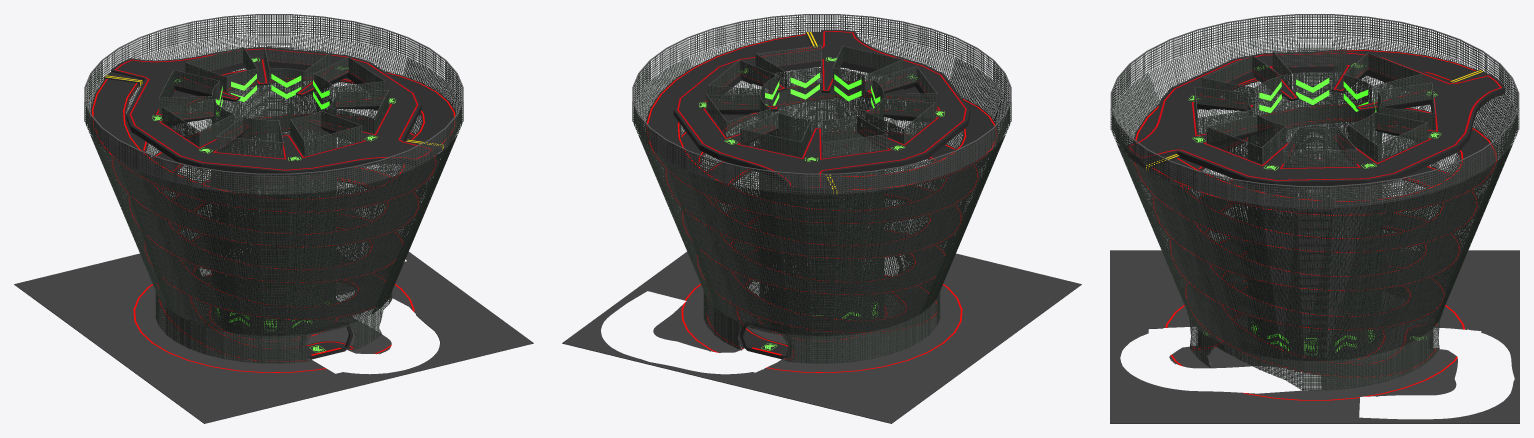
The model's file is floor-04.gltf.
3 views of the same model, side by side, from view 1: azimuth 30°, elevation 25°; view 2: azimuth 150°, elevation 25°; view 3: azimuth 270°, elevation 25° (orthographic). The views are drawn at different scales.
Parts seen in each view (by area): view 1: Cone, bottom-platform, top-platform, big-tube, spiral.stairs.001, top-platform-barriers, spiral.stairs.002, widehex.beam.0.5.000; view 2: Cone, bottom-platform, top-platform, spiral.stairs.002, big-tube, spiral.stairs.001, top-platform-barriers, widehex.beam.0.5.000; view 3: Cone, bottom-platform, top-platform, big-tube, spiral.stairs.002, top-platform-barriers, spiral.stairs.001, arrow-1.
Boxes of the visible parts, bbox=[...] form: Cone: bbox=[84, 14, 463, 363]; bottom-platform: bbox=[14, 210, 533, 423]; top-platform: bbox=[103, 47, 443, 177]; big-tube: bbox=[212, 68, 335, 339]; spiral.stairs.001: bbox=[90, 78, 437, 362]; top-platform-barriers: bbox=[158, 45, 389, 157]; spiral.stairs.002: bbox=[110, 67, 457, 320]; widehex.beam.0.5.000: bbox=[299, 321, 352, 359]; Cone: bbox=[632, 14, 1011, 363]; bottom-platform: bbox=[562, 222, 1081, 423]; top-platform: bbox=[673, 30, 970, 193]; spiral.stairs.002: bbox=[645, 33, 979, 361]; big-tube: bbox=[759, 67, 884, 339]; spiral.stairs.001: bbox=[664, 80, 998, 333]; top-platform-barriers: bbox=[706, 45, 937, 158]; widehex.beam.0.5.000: bbox=[740, 321, 793, 359]; Cone: bbox=[1110, 14, 1519, 390]; bottom-platform: bbox=[1110, 250, 1519, 423]; top-platform: bbox=[1125, 51, 1504, 187]; big-tube: bbox=[1248, 72, 1381, 361]; spiral.stairs.002: bbox=[1151, 103, 1498, 377]; top-platform-barriers: bbox=[1194, 49, 1435, 167]; spiral.stairs.001: bbox=[1132, 49, 1478, 350]; arrow-1: bbox=[1296, 78, 1329, 104].
Size of what is drawn, in the model's own units: 64 by 41.16 by 64.
Materials: 9 (2 with a texture image).
